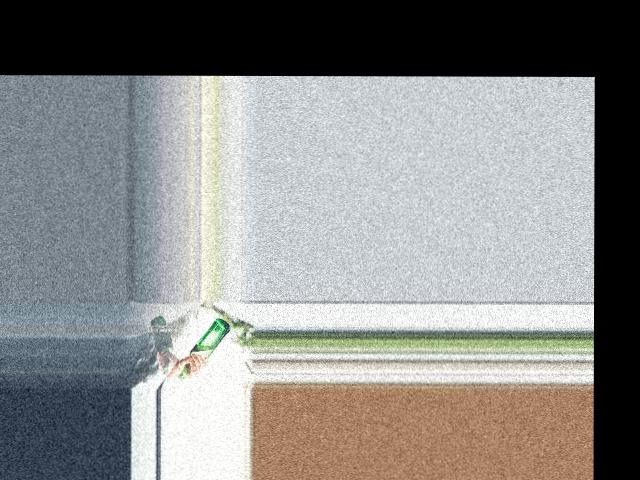beer: (177, 317, 230, 379)
